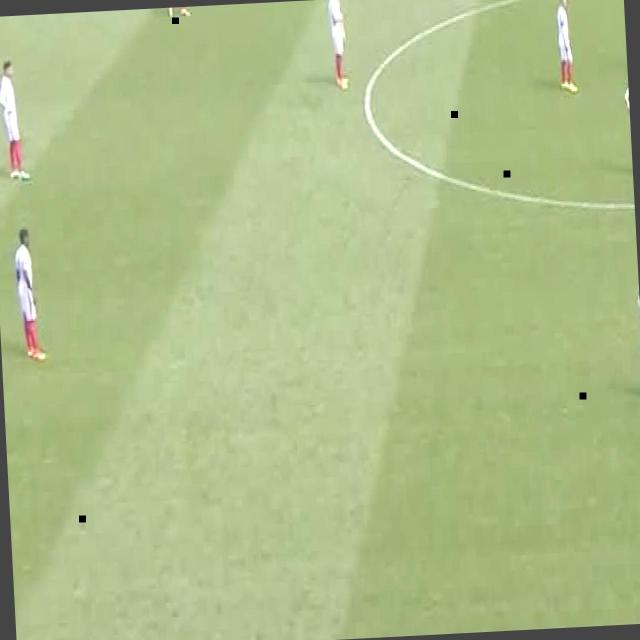player-white: (13, 226, 45, 360), (0, 60, 30, 180), (555, 0, 579, 95), (329, 0, 350, 88), (624, 66, 633, 177), (635, 258, 640, 400), (168, 6, 191, 16)
